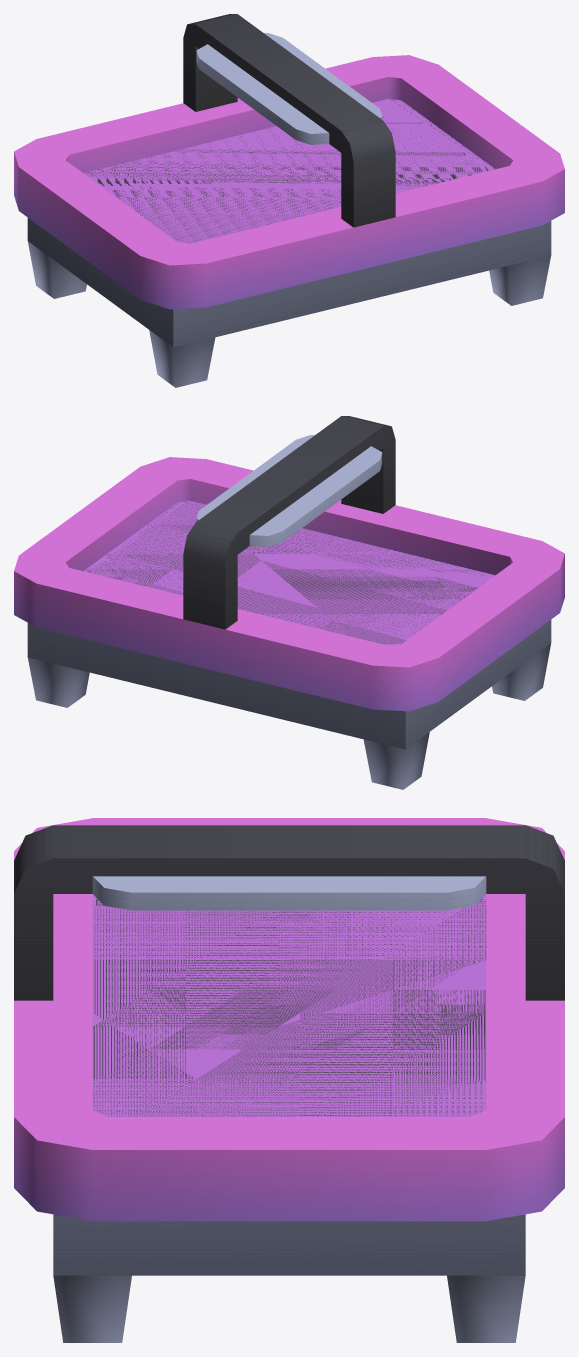
The model's file is air-hockey_lev2.glb.
The picture shows the model from 3 angles, top to bottom: view 1: azimuth 30°, elevation 25°; view 2: azimuth 150°, elevation 25°; view 3: azimuth 270°, elevation 25°; orthographic projection. The views are drawn at different scales.
Visible parts, largest first — view 1: air-hockey_lev2; view 2: air-hockey_lev2; view 3: air-hockey_lev2.
Boxes of the visible parts, x1,y1,x2,y2 form: air-hockey_lev2: (14,14,564,387); air-hockey_lev2: (14,416,564,789); air-hockey_lev2: (14,818,564,1342).
Bounding box in the file's own units: 4 × 2 × 2.81.
Materials: 1 (1 with a texture image).
